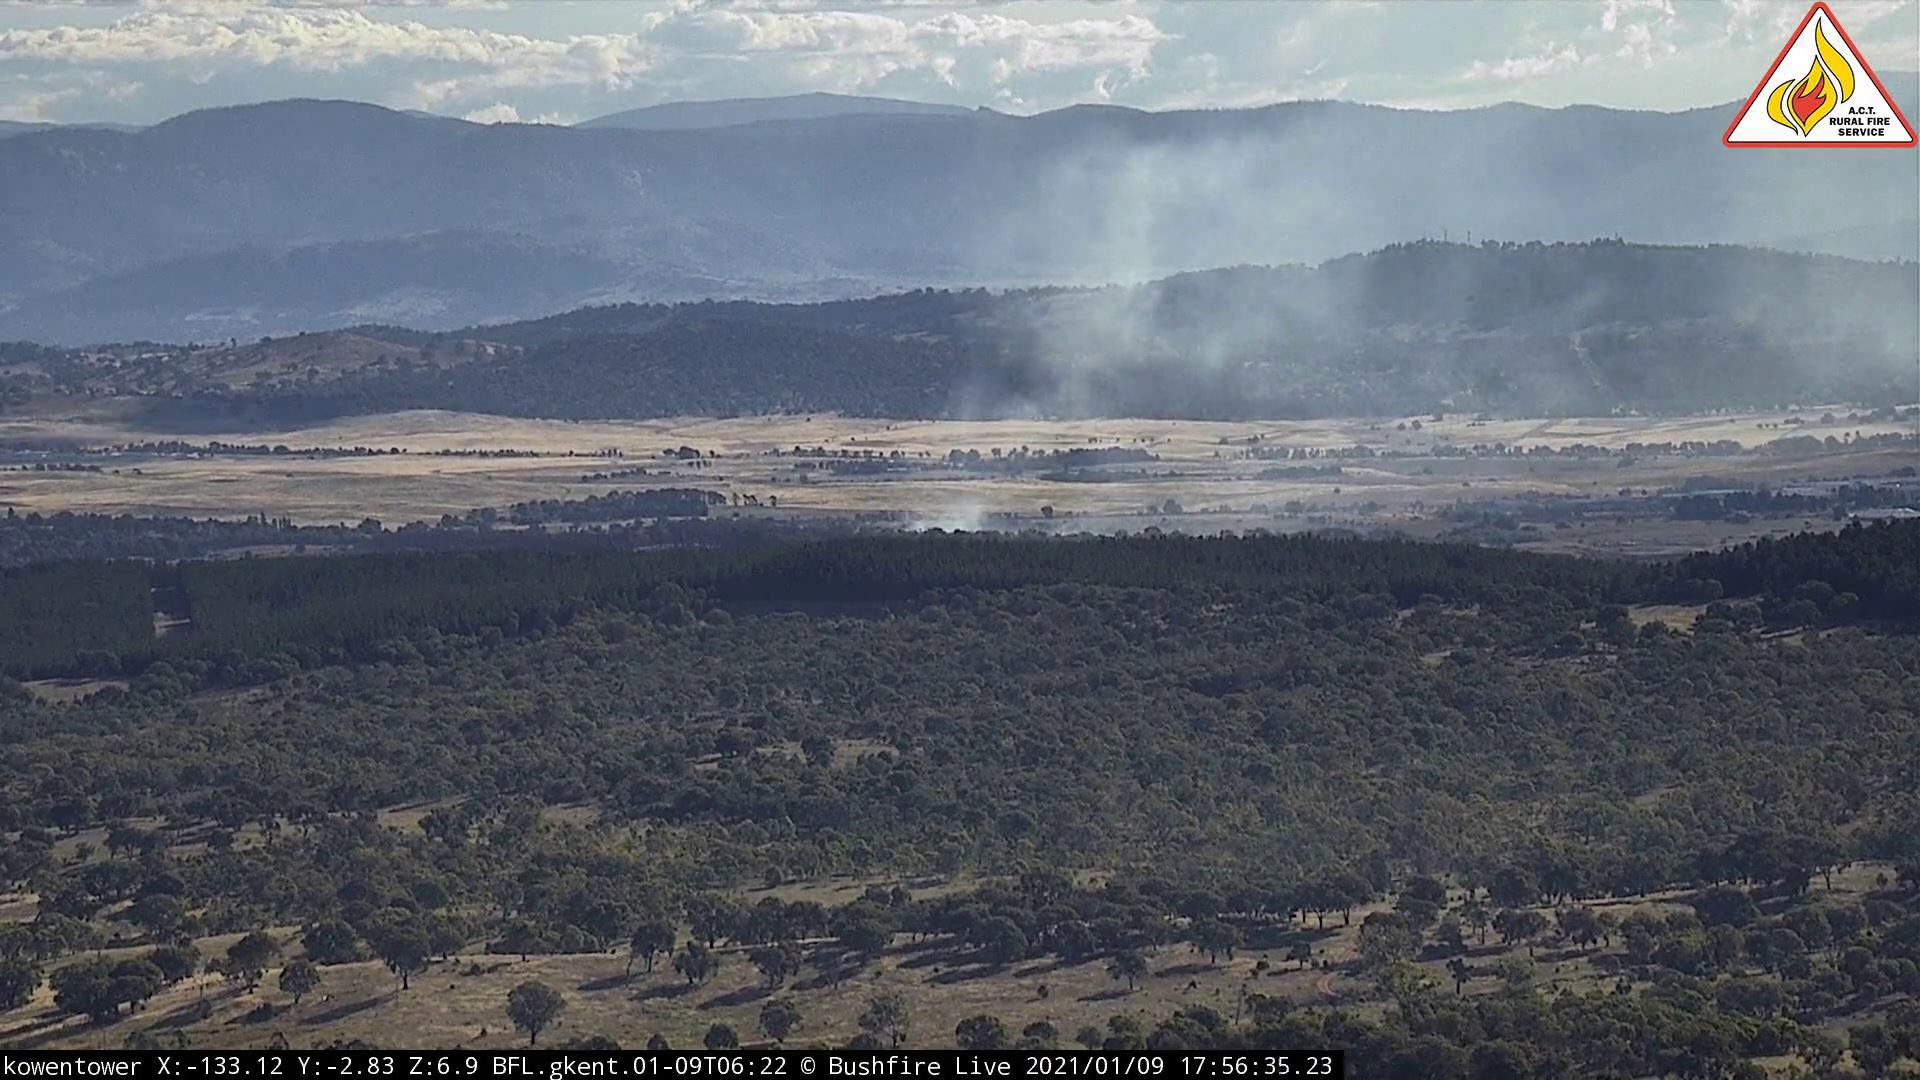instance_salient_object: (899, 113, 1720, 542)
